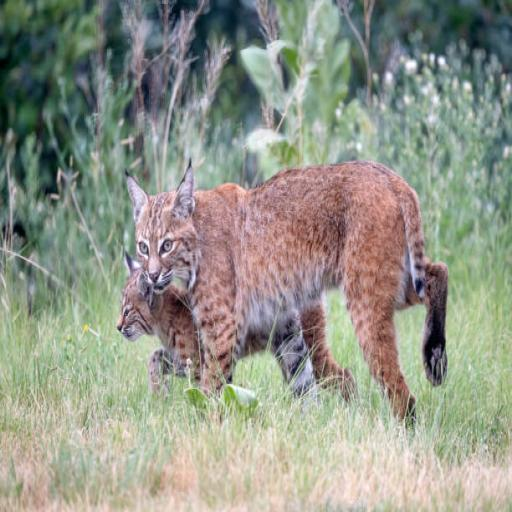lynx: (115, 155, 444, 429)
